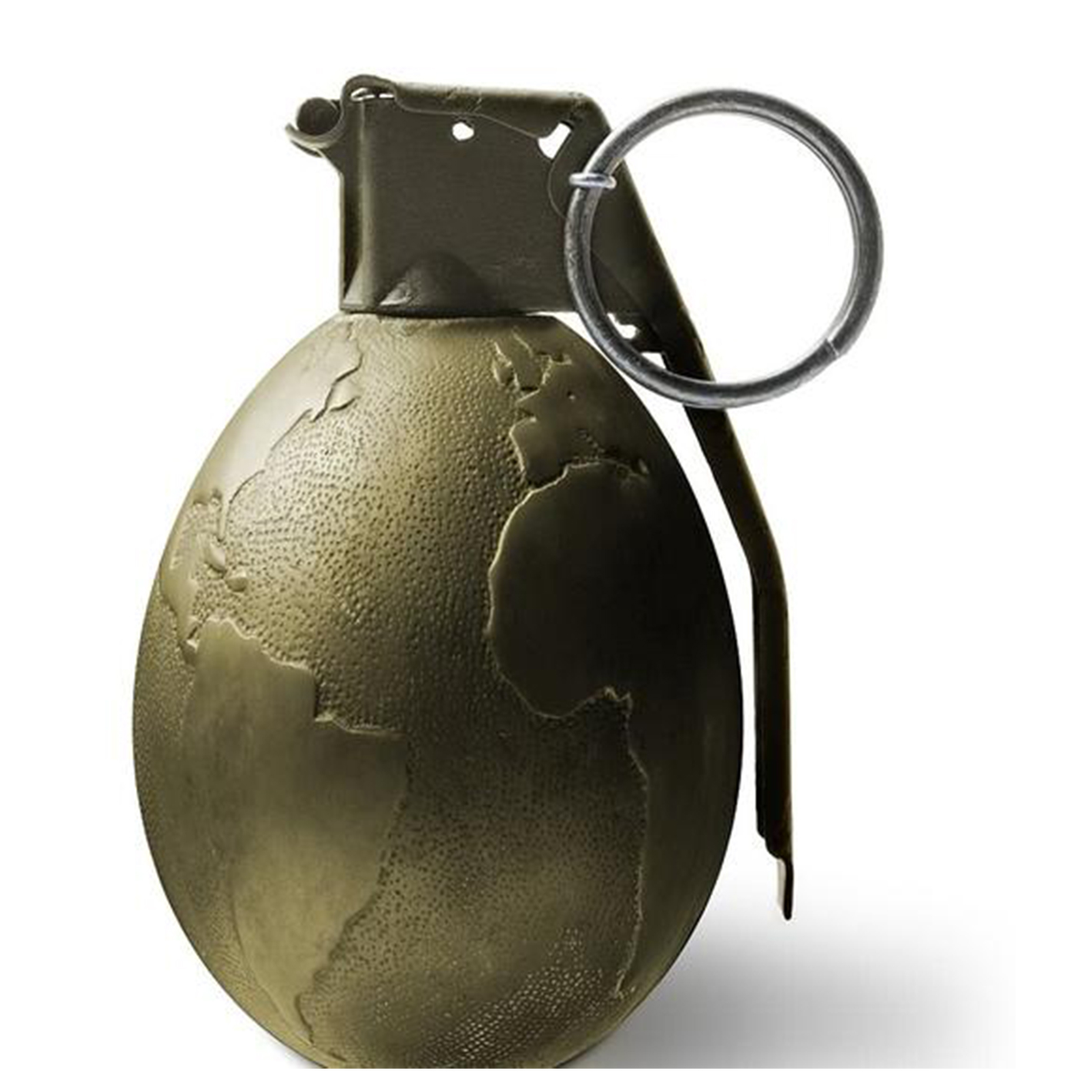mine: (451, 121, 476, 141)
